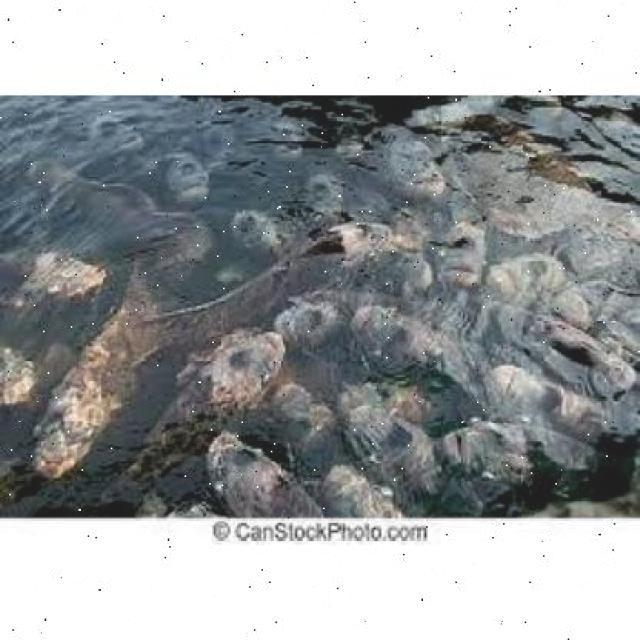gurame: (30, 278, 156, 473), (7, 239, 116, 315)
